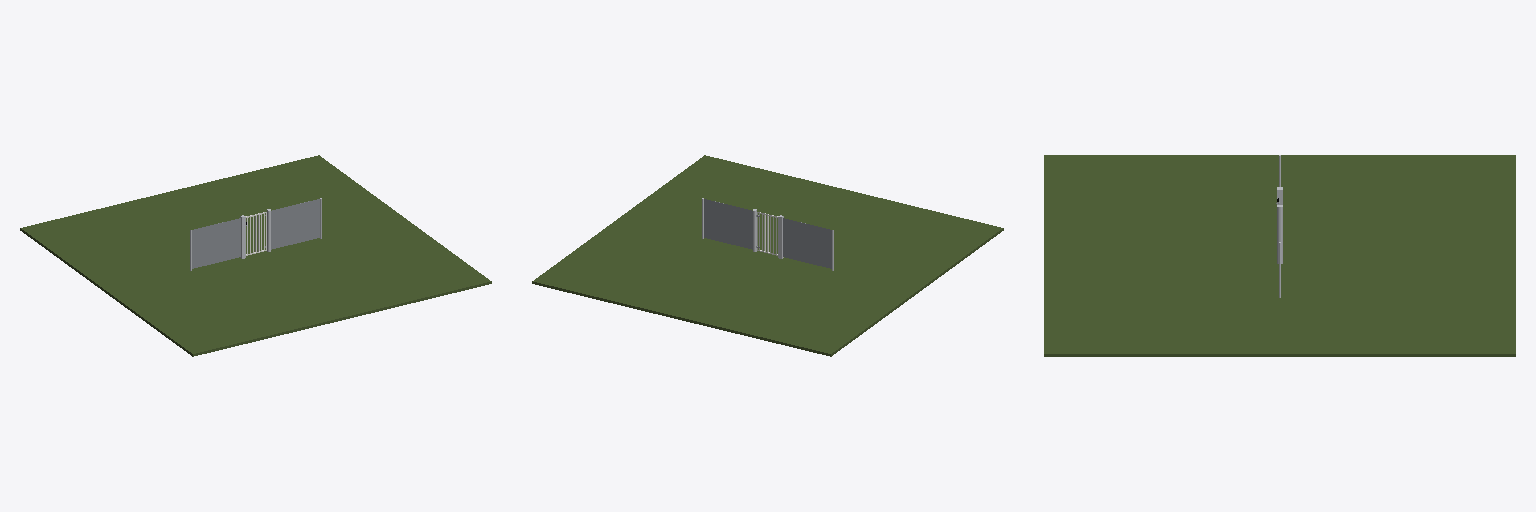
robot.urdf — db0075_gate_swing_simple:
<?xml version="1.0" ?>
<robot xmlns:doorbench="https://github.com/adamraudonis/DoorBench/schema/urdf-ext" name="db0075_gate_swing_simple">
  <link name="world_env">
    <visual name="floor_vis">
      <origin xyz="0 0 -0.05" rpy="0 0 0"/>
      <geometry>
        <box size="12 12 0.1"/>
      </geometry>
      <material name="mat_floor"/>
    </visual>
    <collision name="floor_col">
      <origin xyz="0 0 -0.05" rpy="0 0 0"/>
      <geometry>
        <box size="12 12 0.1"/>
      </geometry>
    </collision>
    <visual name="hinge_pintle_0_vis">
      <origin xyz="0.453 0.05 0.174" rpy="0 0 0"/>
      <geometry>
        <cylinder radius="0.008" length="0.04"/>
      </geometry>
      <material name="mat_hinge"/>
    </visual>
    <visual name="hinge_pintle_1_vis">
      <origin xyz="0.453 0.05 1.374" rpy="0 0 0"/>
      <geometry>
        <cylinder radius="0.008" length="0.04"/>
      </geometry>
      <material name="mat_hinge"/>
    </visual>
    <visual name="leaf_pin_housing_vis">
      <origin xyz="-0.407 -0.0475 1.315" rpy="0 0 0"/>
      <geometry>
        <box size="0.044 0.04 0.06"/>
      </geometry>
      <material name="mat_op_black_matte_metal"/>
    </visual>
    <visual name="leaf_pin_bracket_vis">
      <origin xyz="-0.4455 -0.0475 1.324" rpy="0 0 0"/>
      <geometry>
        <box size="0.033 0.04 0.02"/>
      </geometry>
      <material name="mat_op_black_matte_metal"/>
    </visual>
    <visual name="post_hinge_vis">
      <origin xyz="0.531 0 0.8" rpy="0 0 0"/>
      <geometry>
        <cylinder radius="0.075" length="1.6"/>
      </geometry>
      <material name="mat_frame"/>
    </visual>
    <collision name="post_hinge_col">
      <origin xyz="0.531 0 0.8" rpy="0 0 0"/>
      <geometry>
        <cylinder radius="0.075" length="1.6"/>
      </geometry>
    </collision>
    <visual name="post_latch_vis">
      <origin xyz="-0.531 0 0.8" rpy="0 0 0"/>
      <geometry>
        <box size="0.15 0.15 1.6"/>
      </geometry>
      <material name="mat_frame"/>
    </visual>
    <collision name="post_latch_col">
      <origin xyz="-0.531 0 0.8" rpy="0 0 0"/>
      <geometry>
        <box size="0.15 0.15 1.6"/>
      </geometry>
    </collision>
    <visual name="gate_stop_vis">
      <origin xyz="-0.436 -0.0245 0.3" rpy="0 0 0"/>
      <geometry>
        <box size="0.04 0.024 0.12"/>
      </geometry>
      <material name="mat_frame"/>
    </visual>
    <collision name="gate_stop_col">
      <origin xyz="-0.436 -0.0245 0.3" rpy="0 0 0"/>
      <geometry>
        <box size="0.04 0.024 0.12"/>
      </geometry>
    </collision>
    <visual name="fence_l_vis">
      <origin xyz="-1.606 0 0.8" rpy="0 0 0"/>
      <geometry>
        <box size="2 0.004 1.5"/>
      </geometry>
      <material name="mat_fence_mesh"/>
    </visual>
    <collision name="fence_l_col">
      <origin xyz="-1.606 0 0.8" rpy="0 0 0"/>
      <geometry>
        <box size="2 0.004 1.5"/>
      </geometry>
    </collision>
    <visual name="fence_post_l_vis">
      <origin xyz="-2.606 0 0.775" rpy="0 0 0"/>
      <geometry>
        <cylinder radius="0.025" length="1.55"/>
      </geometry>
      <material name="mat_frame"/>
    </visual>
    <collision name="fence_post_l_col">
      <origin xyz="-2.606 0 0.775" rpy="0 0 0"/>
      <geometry>
        <cylinder radius="0.025" length="1.55"/>
      </geometry>
    </collision>
    <visual name="fence_r_vis">
      <origin xyz="1.606 0 0.8" rpy="0 0 0"/>
      <geometry>
        <box size="2 0.004 1.5"/>
      </geometry>
      <material name="mat_fence_mesh"/>
    </visual>
    <collision name="fence_r_col">
      <origin xyz="1.606 0 0.8" rpy="0 0 0"/>
      <geometry>
        <box size="2 0.004 1.5"/>
      </geometry>
    </collision>
    <visual name="fence_post_r_vis">
      <origin xyz="2.606 0 0.775" rpy="0 0 0"/>
      <geometry>
        <cylinder radius="0.025" length="1.55"/>
      </geometry>
      <material name="mat_frame"/>
    </visual>
    <collision name="fence_post_r_col">
      <origin xyz="2.606 0 0.775" rpy="0 0 0"/>
      <geometry>
        <cylinder radius="0.025" length="1.55"/>
      </geometry>
    </collision>
    <visual name="leaf_pin_post_plate_strap_0_vis">
      <origin xyz="-0.4425 -0.0475 1.31" rpy="0 0 0"/>
      <geometry>
        <box size="0.028 0.0416 0.08"/>
      </geometry>
      <material name="mat_op_black_matte_metal"/>
    </visual>
  </link>
  <link name="leaf">
    <inertial>
      <origin xyz="-0.441751 -0.049875 0.804353" rpy="0 0 0"/>
      <mass value="41.306832"/>
      <inertia ixx="7.966935918" ixy="-0.020869338" ixz="0.075151233" iyy="10.915546417" iyz="0.010114959" izz="2.957396006"/>
    </inertial>
    <collision name="leaf_slab_col_col">
      <origin xyz="-0.45 -0.05 0.8" rpy="0 0 0"/>
      <geometry>
        <box size="0.9 0.025 1.5"/>
      </geometry>
    </collision>
    <visual name="leaf_rail_b_vis">
      <origin xyz="-0.45 -0.05 0.0725" rpy="0 0 0"/>
      <geometry>
        <box size="0.9 0.025 0.045"/>
      </geometry>
      <material name="mat_leaf"/>
    </visual>
    <visual name="leaf_rail_t_vis">
      <origin xyz="-0.45 -0.05 1.5275" rpy="0 0 0"/>
      <geometry>
        <box size="0.9 0.025 0.045"/>
      </geometry>
      <material name="mat_leaf"/>
    </visual>
    <visual name="leaf_stile_h_vis">
      <origin xyz="-0.0225 -0.05 0.8" rpy="0 0 0"/>
      <geometry>
        <box size="0.045 0.025 1.5"/>
      </geometry>
      <material name="mat_leaf"/>
    </visual>
    <visual name="leaf_stile_l_vis">
      <origin xyz="-0.8775 -0.05 0.8" rpy="0 0 0"/>
      <geometry>
        <box size="0.045 0.025 1.5"/>
      </geometry>
      <material name="mat_leaf"/>
    </visual>
    <visual name="leaf_picket_0_vis">
      <origin xyz="-0.102857 -0.05 0.82" rpy="0 0 0"/>
      <geometry>
        <box size="0.04 0.0175 1.473"/>
      </geometry>
      <material name="mat_leaf"/>
    </visual>
    <visual name="leaf_picket_1_vis">
      <origin xyz="-0.218571 -0.05 0.82" rpy="0 0 0"/>
      <geometry>
        <box size="0.04 0.0175 1.473"/>
      </geometry>
      <material name="mat_leaf"/>
    </visual>
    <visual name="leaf_picket_2_vis">
      <origin xyz="-0.334286 -0.05 0.82" rpy="0 0 0"/>
      <geometry>
        <box size="0.04 0.0175 1.473"/>
      </geometry>
      <material name="mat_leaf"/>
    </visual>
    <visual name="leaf_picket_3_vis">
      <origin xyz="-0.45 -0.05 0.82" rpy="0 0 0"/>
      <geometry>
        <box size="0.04 0.0175 1.473"/>
      </geometry>
      <material name="mat_leaf"/>
    </visual>
    <visual name="leaf_picket_4_vis">
      <origin xyz="-0.565714 -0.05 0.82" rpy="0 0 0"/>
      <geometry>
        <box size="0.04 0.0175 1.473"/>
      </geometry>
      <material name="mat_leaf"/>
    </visual>
    <visual name="leaf_picket_5_vis">
      <origin xyz="-0.681429 -0.05 0.82" rpy="0 0 0"/>
      <geometry>
        <box size="0.04 0.0175 1.473"/>
      </geometry>
      <material name="mat_leaf"/>
    </visual>
    <visual name="leaf_picket_6_vis">
      <origin xyz="-0.797143 -0.05 0.82" rpy="0 0 0"/>
      <geometry>
        <box size="0.04 0.0175 1.473"/>
      </geometry>
      <material name="mat_leaf"/>
    </visual>
    <visual name="hinge_strap_0_vis">
      <origin xyz="0 -0.0345 0.2" rpy="0 0 3.141593"/>
      <geometry>
        <mesh filename="../../hardware/strap_hinge_3c1a7c1a5f.obj"/>
      </geometry>
      <material name="mat_hinge"/>
    </visual>
    <visual name="hinge_strap_eye_0_vis">
      <origin xyz="0 0 0.2" rpy="0 0 0"/>
      <geometry>
        <cylinder radius="0.011" length="0.024"/>
      </geometry>
      <material name="mat_hinge"/>
    </visual>
    <visual name="hinge_strap_neck_0_vis">
      <origin xyz="0 -0.01725 0.2" rpy="0 0 0"/>
      <geometry>
        <box size="0.024 0.0425 0.012"/>
      </geometry>
      <material name="mat_hinge"/>
    </visual>
    <visual name="hinge_strap_1_vis">
      <origin xyz="0 -0.0345 1.4" rpy="0 0 3.141593"/>
      <geometry>
        <mesh filename="../../hardware/strap_hinge_3c1a7c1a5f.obj"/>
      </geometry>
      <material name="mat_hinge"/>
    </visual>
    <visual name="hinge_strap_eye_1_vis">
      <origin xyz="0 0 1.4" rpy="0 0 0"/>
      <geometry>
        <cylinder radius="0.011" length="0.024"/>
      </geometry>
      <material name="mat_hinge"/>
    </visual>
    <visual name="hinge_strap_neck_1_vis">
      <origin xyz="0 -0.01725 1.4" rpy="0 0 0"/>
      <geometry>
        <box size="0.024 0.0425 0.012"/>
      </geometry>
      <material name="mat_hinge"/>
    </visual>
    <visual name="leaf_cup_n_vis">
      <origin xyz="-0.86 -0.1095 1.255" rpy="0 0 0"/>
      <geometry>
        <box size="0.032 0.008 0.04"/>
      </geometry>
      <material name="mat_keeper"/>
    </visual>
    <collision name="leaf_cup_n_col">
      <origin xyz="-0.86 -0.1095 1.255" rpy="0 0 0"/>
      <geometry>
        <box size="0.032 0.008 0.04"/>
      </geometry>
    </collision>
    <visual name="leaf_cup_p_vis">
      <origin xyz="-0.86 -0.0855 1.255" rpy="0 0 0"/>
      <geometry>
        <box size="0.032 0.008 0.04"/>
      </geometry>
      <material name="mat_keeper"/>
    </visual>
    <collision name="leaf_cup_p_col">
      <origin xyz="-0.86 -0.0855 1.255" rpy="0 0 0"/>
      <geometry>
        <box size="0.032 0.008 0.04"/>
      </geometry>
    </collision>
    <visual name="leaf_cup_b_vis">
      <origin xyz="-0.86 -0.0975 1.231" rpy="0 0 0"/>
      <geometry>
        <box size="0.032 0.032 0.008"/>
      </geometry>
      <material name="mat_keeper"/>
    </visual>
    <collision name="leaf_cup_b_col">
      <origin xyz="-0.86 -0.0975 1.231" rpy="0 0 0"/>
      <geometry>
        <box size="0.032 0.032 0.008"/>
      </geometry>
    </collision>
    <visual name="leaf_cup_bracket_vis">
      <origin xyz="-0.86 -0.072 1.255" rpy="0 0 0"/>
      <geometry>
        <box size="0.032 0.019 0.008"/>
      </geometry>
      <material name="mat_keeper"/>
    </visual>
    <visual name="leaf_cup_ramp_vis">
      <origin xyz="-0.86 -0.133344 1.252012" rpy="-2.41495 0 0"/>
      <geometry>
        <box size="0.032 0.0602 0.008"/>
      </geometry>
      <material name="mat_keeper"/>
    </visual>
    <collision name="leaf_cup_ramp_col">
      <origin xyz="-0.86 -0.133344 1.252012" rpy="-2.41495 0 0"/>
      <geometry>
        <box size="0.032 0.0602 0.008"/>
      </geometry>
    </collision>
  </link>
  <link name="leaf_pin">
    <inertial>
      <origin xyz="0 0 0.037519" rpy="0 0 0"/>
      <mass value="0.228168"/>
      <inertia ixx="0.000346413" ixy="0" ixz="0" iyy="0.000346413" iyz="0" izz="0.000010167"/>
    </inertial>
    <visual name="leaf_pin_geom_vis">
      <origin xyz="0 0 0.0025" rpy="0 0 0"/>
      <geometry>
        <cylinder radius="0.006" length="0.105"/>
      </geometry>
      <material name="mat_op_black_matte_metal"/>
    </visual>
    <collision name="leaf_pin_geom_col">
      <origin xyz="0 0 0.0025" rpy="0 0 0"/>
      <geometry>
        <cylinder radius="0.006" length="0.105"/>
      </geometry>
    </collision>
    <visual name="leaf_pin_knob_vis">
      <origin xyz="0 0 0.065" rpy="0 0 0"/>
      <geometry>
        <cylinder radius="0.012" length="0.02"/>
      </geometry>
      <material name="mat_op_black_matte_metal"/>
    </visual>
    <collision name="leaf_pin_knob_col">
      <origin xyz="0 0 0.065" rpy="0 0 0"/>
      <geometry>
        <cylinder radius="0.012" length="0.02"/>
      </geometry>
    </collision>
  </link>
  <joint name="leaf_hinge" type="revolute">
    <origin xyz="0.453 0.05 0" rpy="0 0 0"/>
    <parent link="world_env"/>
    <child link="leaf"/>
    <axis xyz="0 0 -1"/>
    <limit lower="0" upper="1.745329" effort="2000" velocity="10"/>
    <dynamics damping="8.177737" friction="0.823949"/>
    <doorbench:spring stiffness="5" springref="-0.8" note="tau = -stiffness*(q - springref); not native URDF"/>
    <doorbench:closer damping_closing="60" damping_opening="8" backcheck_angle="0" backcheck_damping="0"/>
  </joint>
  <joint name="leaf_pin_slide" type="prismatic">
    <origin xyz="-0.407 -0.0475 1.3" rpy="0 0 0"/>
    <parent link="world_env"/>
    <child link="leaf_pin"/>
    <axis xyz="0 0 1"/>
    <limit lower="0" upper="0.06" effort="5000" velocity="10"/>
    <dynamics damping="9.526824" friction="0.25"/>
    <doorbench:spring stiffness="60" springref="-0.016667" note="tau = -stiffness*(q - springref); not native URDF"/>
  </joint>
  <material name="mat_fence_mesh">
    <color rgba="0.6 0.62 0.64 0.5"/>
  </material>
  <material name="mat_floor">
    <color rgba="0.35 0.42 0.25 1"/>
  </material>
  <material name="mat_frame">
    <color rgba="0.8 0.81 0.83 1"/>
  </material>
  <material name="mat_hinge">
    <color rgba="0.65 0.66 0.68 1"/>
  </material>
  <material name="mat_keeper">
    <color rgba="0.65 0.66 0.68 1"/>
  </material>
  <material name="mat_leaf">
    <color rgba="0.93 0.93 0.91 1"/>
  </material>
  <material name="mat_op_black_matte_metal">
    <color rgba="0.05 0.05 0.05 1"/>
  </material>
</robot>

--- Render facts (derived) ---
The picture shows the robot from 3 angles, left to right: view 1: azimuth 30°, elevation 25°; view 2: azimuth 150°, elevation 25°; view 3: azimuth 270°, elevation 25°; orthographic projection.
Robot: db0075_gate_swing_simple — 3 links, 2 joints (1 revolute, 1 prismatic); root link world_env; default pose: every joint at zero.
Links seen in each view (by area): view 1: world_env; view 2: world_env; view 3: world_env.
Boxes of the visible links, box(x1,y1,x2,y2) form: world_env: box(20, 155, 491, 356); world_env: box(532, 155, 1003, 356); world_env: box(1044, 155, 1515, 356).
Bounding box of the posed robot: 12 × 12 × 1.7 m (x, y, z).
Meshes: 1 distinct files referenced, 2 mesh visuals loaded (1 OBJ).
